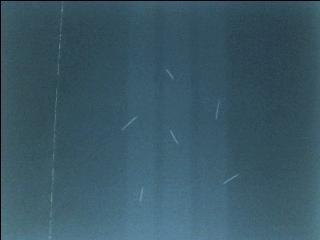crack: (45, 0, 65, 240)
scratch: (117, 99, 148, 133), (134, 182, 149, 207), (211, 98, 226, 122), (218, 171, 240, 187), (166, 124, 182, 146), (163, 65, 178, 86)
